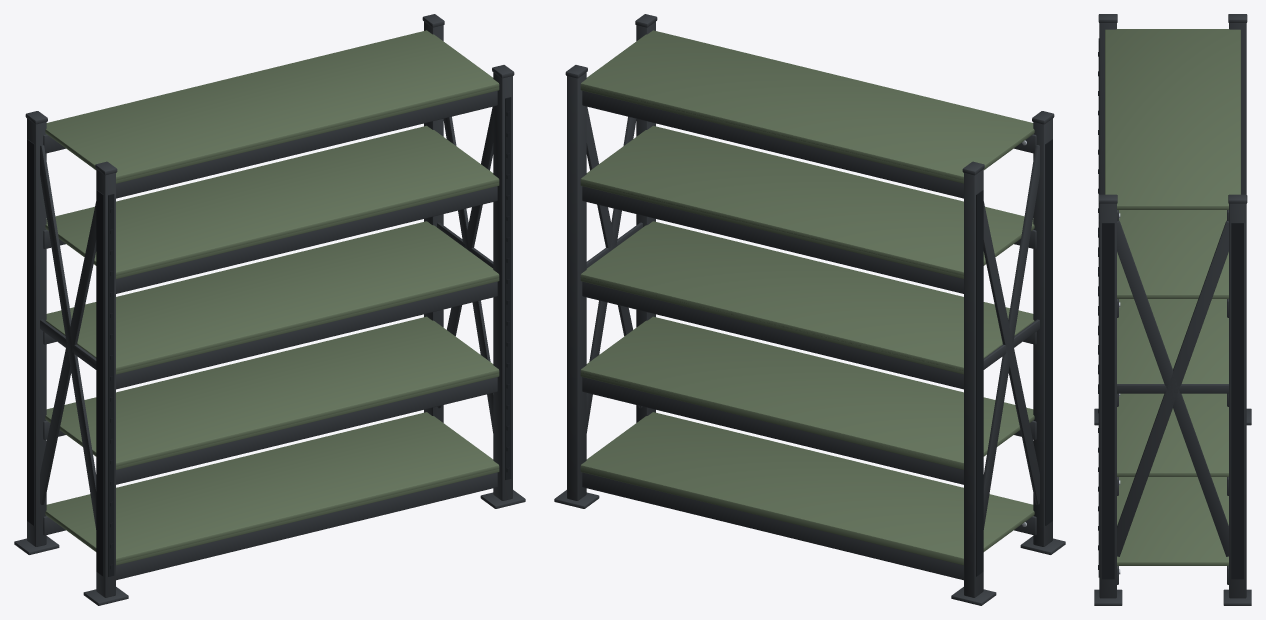
Rendered from storage_rack.glb.
3 views of the same model, side by side, from view 1: azimuth 30°, elevation 25°; view 2: azimuth 150°, elevation 25°; view 3: azimuth 270°, elevation 25° (orthographic). The views are drawn at different scales.
Parts seen in each view (by area): view 1: storage_rack_body; view 2: storage_rack_body; view 3: storage_rack_body.
Part boxes in pixels (x1,y1,x2,y2): storage_rack_body: [14, 14, 525, 605]; storage_rack_body: [554, 14, 1065, 605]; storage_rack_body: [1094, 14, 1251, 605].
Size of the model in its own units: 1.88 by 1.81 by 0.645.
